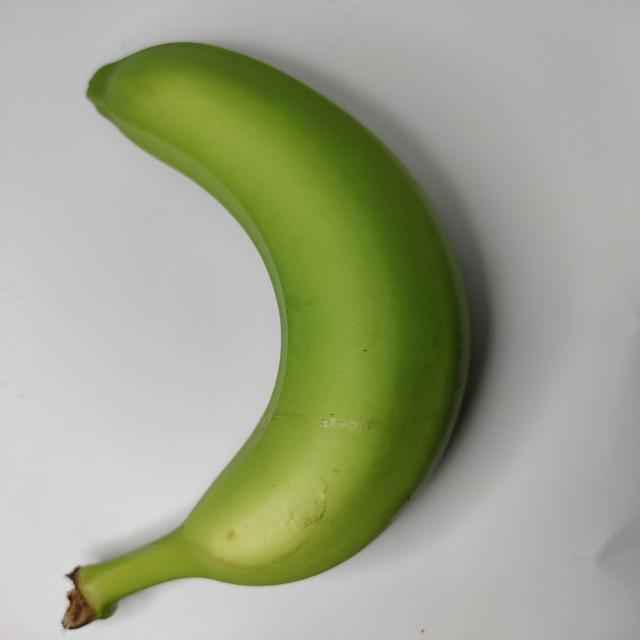raw: (9, 8, 518, 640)
